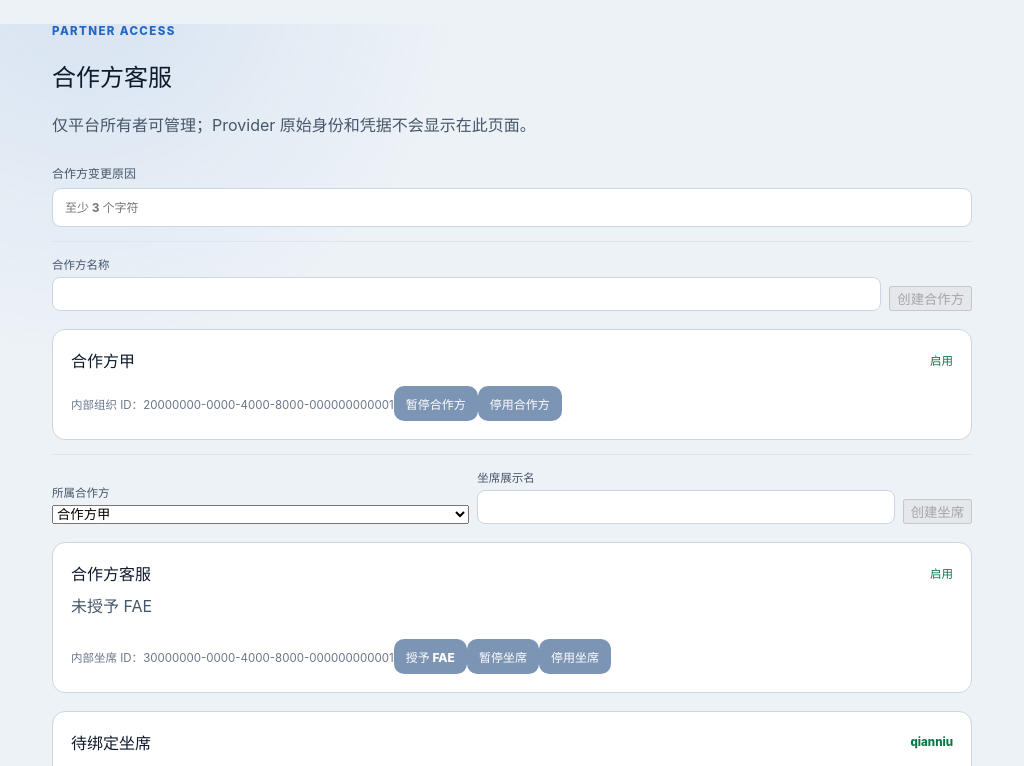
PartnerAccessPanel › shows a persistent explicit indeterminate state on a mutation 5xx
Type "合作方乙" into the field named "合作方名称".
click(467, 294); type("合作方乙")  # box [52,277,881,311]
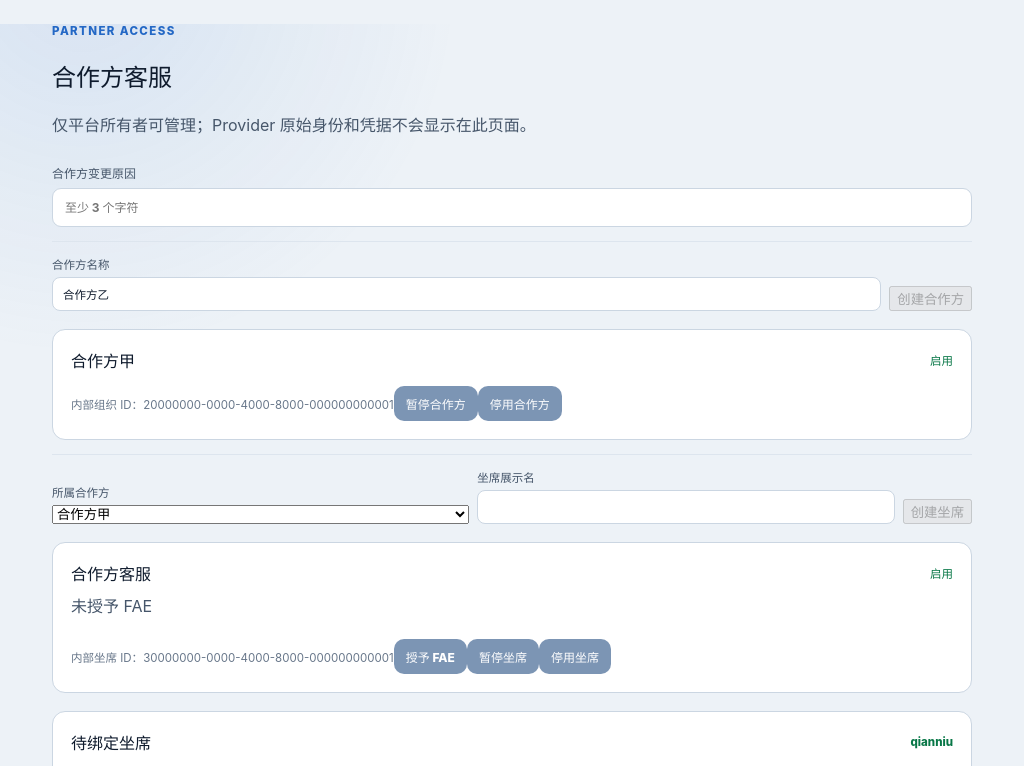
Type "新增试点" into the field named "合作方变更原因".
click(512, 208); type("新增试点")  # box [52,188,972,227]
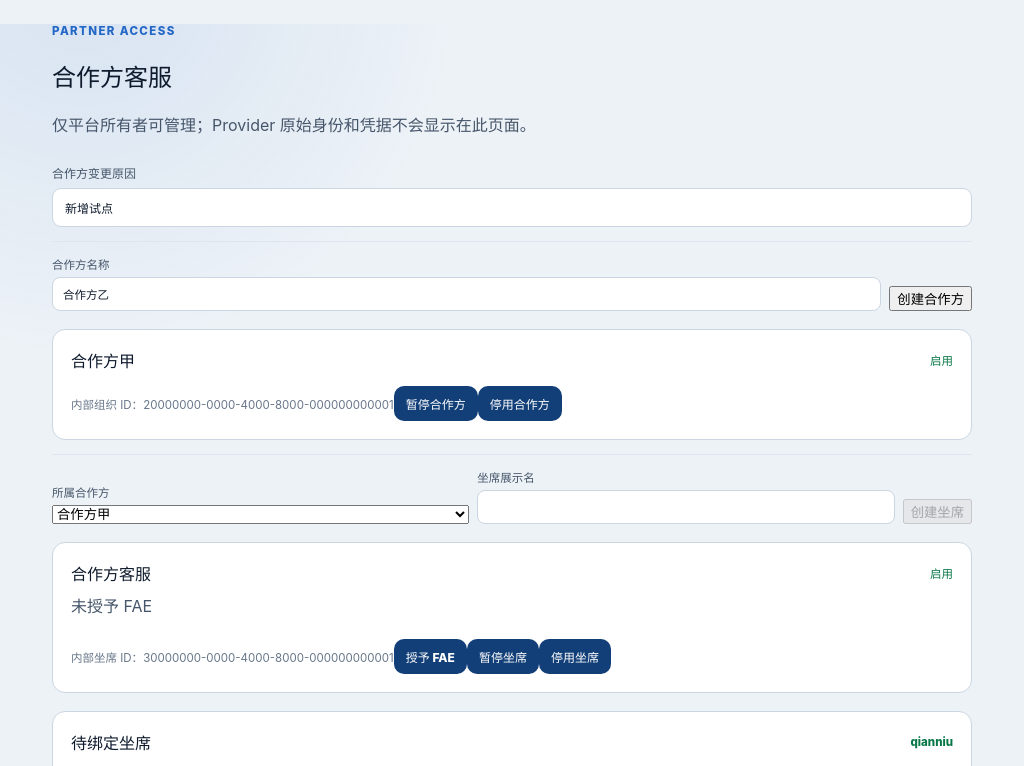
Click the button "创建合作方".
click(931, 299)  # box [889,286,972,311]
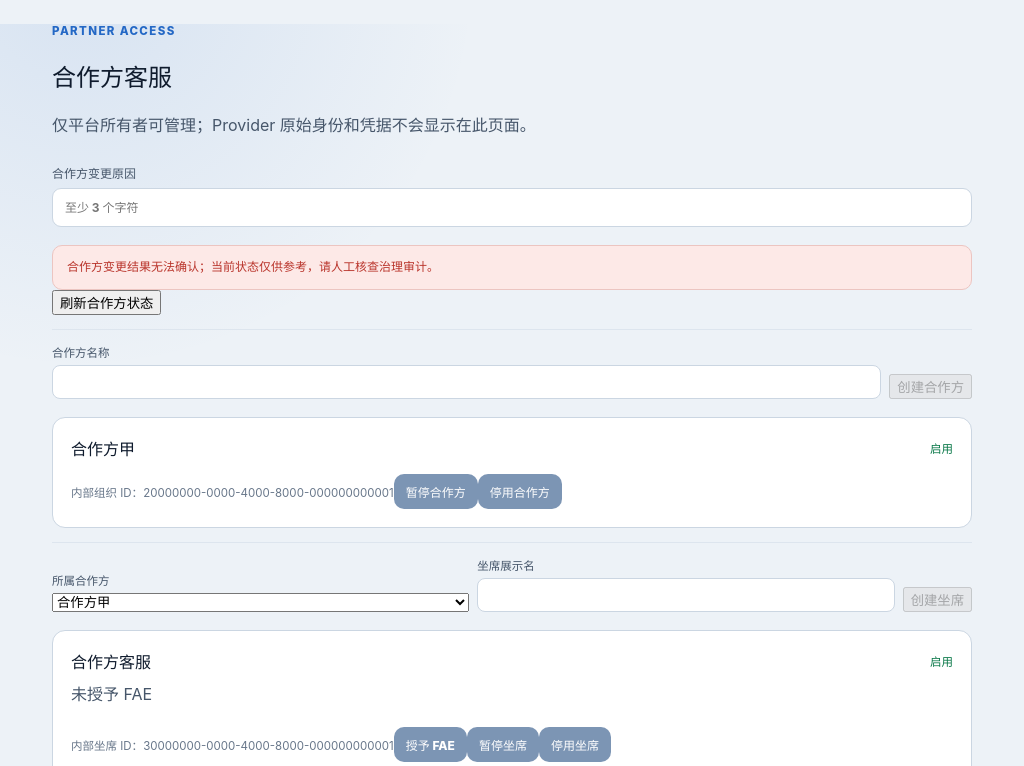
Expected: the text "结果无法确认" is shown, [67,259,439,274]
